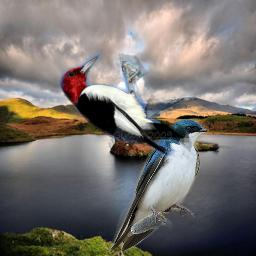Swallow: (109, 119, 209, 254)
Woodpecker: (45, 49, 196, 162)
